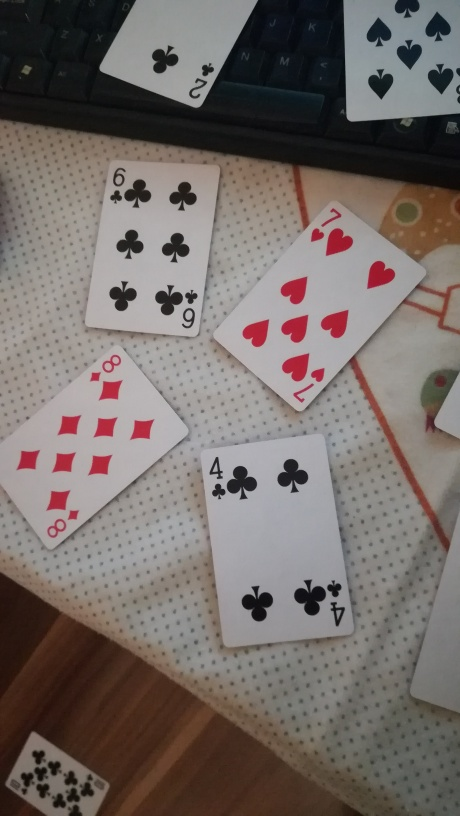fk 8: (2, 329, 188, 559)
hx 7: (212, 152, 429, 413)
mh 10: (4, 713, 123, 816)
mh 4: (187, 440, 361, 649)
mh 6: (64, 139, 223, 352)
